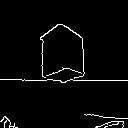cube: (26, 21, 99, 88)
